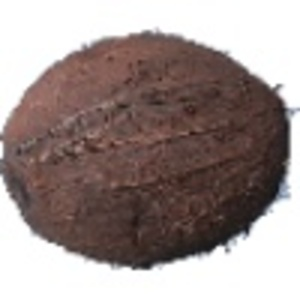coco: (1, 33, 300, 268)
